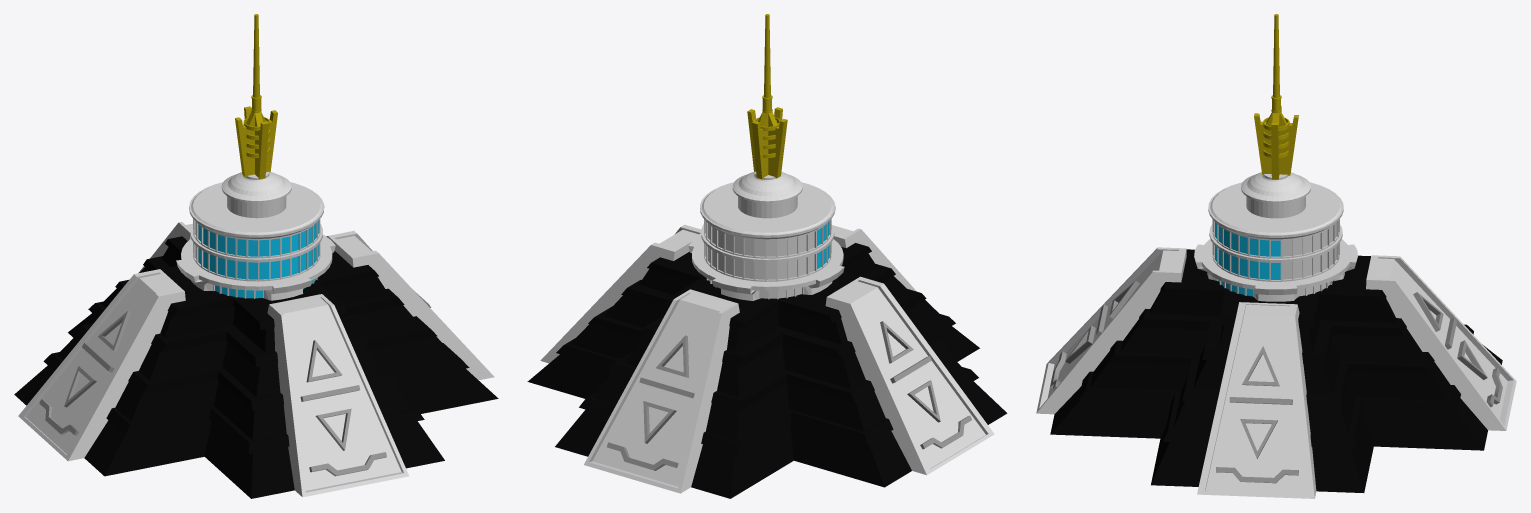
File: bas ayak.FBX
3 renders of one model, left to right at view 1: azimuth 30°, elevation 25°; view 2: azimuth 150°, elevation 25°; view 3: azimuth 270°, elevation 25°, orthographic.
Parts seen in each view (by area): view 1: Group001, Cylinder001, Line002, nagysh001, nagysh002; view 2: Group001, Cylinder001, Line002, nagysh003, nagysh002; view 3: Group001, Cylinder001, Line002, nagysh, nagysh003, nagysh001.
Part boxes in pixels (x1,y1,x2,y2): Group001: [14, 221, 498, 498]; Cylinder001: [176, 171, 335, 300]; Line002: [235, 14, 277, 179]; nagysh001: [300, 340, 386, 476]; nagysh002: [39, 310, 130, 435]; Group001: [527, 221, 1007, 498]; Cylinder001: [688, 171, 844, 300]; Line002: [747, 14, 787, 179]; nagysh003: [607, 335, 694, 470]; nagysh002: [880, 321, 971, 449]; Group001: [1036, 220, 1516, 498]; Cylinder001: [1194, 172, 1357, 301]; Line002: [1254, 14, 1298, 179]; nagysh: [1216, 346, 1298, 483]; nagysh003: [1413, 292, 1502, 407]; nagysh001: [1050, 281, 1139, 390].
Bounding box in the file's own units: 22179 × 19487 × 22179.
